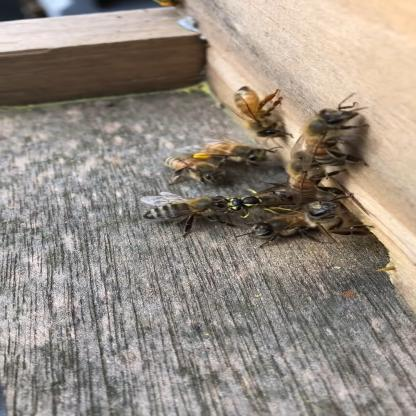bee: (115, 68, 403, 256), (291, 100, 375, 236), (146, 133, 276, 186), (225, 74, 296, 136)
hornet: (213, 184, 291, 220)
